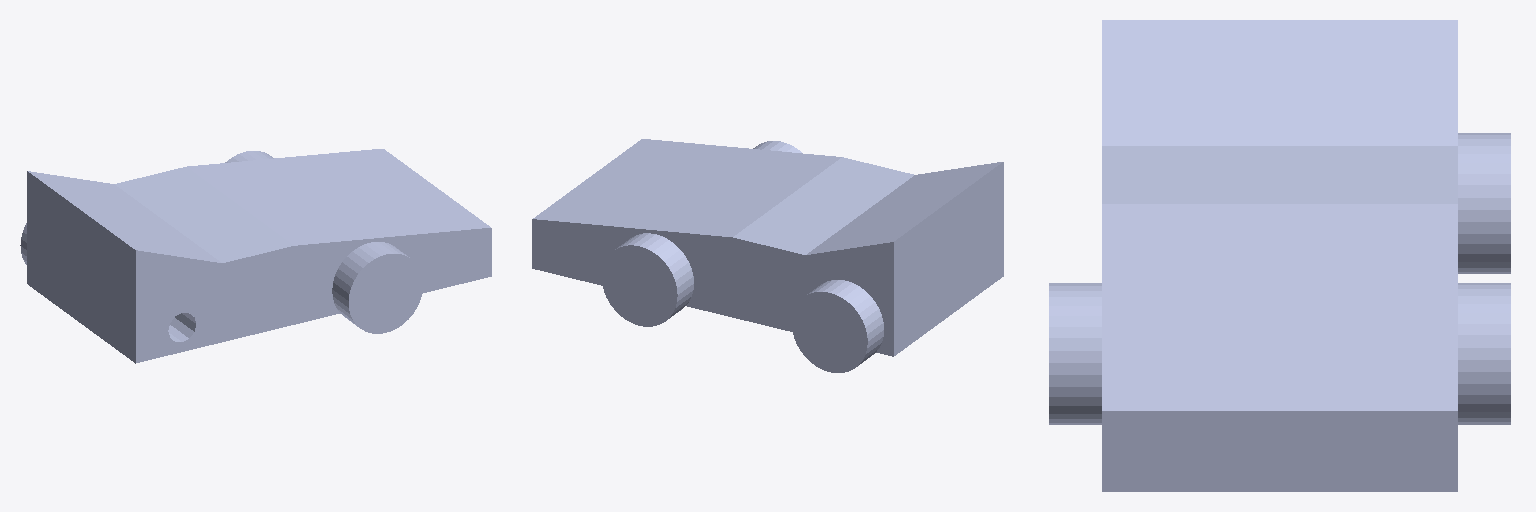
robot.urdf — car_control:
<?xml version="1.0" encoding="utf-8"?>
<!-- This URDF was automatically created by SolidWorks to URDF Exporter! Originally created by [author] ([email redacted]) 
     Commit Version: 1.6.0-1-g15f4949  Build Version: 1.6.7594.29634
     For more information, please see http://wiki.ros.org/sw_urdf_exporter -->
<robot
  name="car_control">
  <link
    name="base_link">
    <inertial>
      <origin
        xyz="0.0953137510067839 0 -0.101443848109706"
        rpy="0 0 0" />
      <mass
        value="90.4863171622024" />
      <inertia
        ixx="2.31734101461935"
        ixy="9.40606923907818E-17"
        ixz="0.534422646160281"
        iyy="7.29012414676684"
        iyz="8.33231985741877E-18"
        izz="8.86465995750526" />
    </inertial>
    <visual>
      <origin
        xyz="0 0 0"
        rpy="0 0 0" />
      <geometry>
        <mesh
          filename="package://car_control/meshes/base_link.STL" />
      </geometry>
      <material
        name="">
        <color
          rgba="0.792156862745098 0.819607843137255 0.933333333333333 1" />
      </material>
    </visual>
    <collision>
      <origin
        xyz="0 0 0"
        rpy="0 0 0" />
      <geometry>
        <mesh
          filename="package://car_control/meshes/base_link.STL" />
      </geometry>
    </collision>
  </link>
  <link
    name="BR_wheel">
    <inertial>
      <origin
        xyz="-1.1102E-16 0.047495 -1.4572E-16"
        rpy="0 0 0" />
      <mass
        value="2.8186" />
      <inertia
        ixx="0.009636"
        ixy="7.9039E-20"
        ixz="7.1367E-20"
        iyy="0.013006"
        iyz="9.4932E-19"
        izz="0.009636" />
    </inertial>
    <visual>
      <origin
        xyz="0 0 0"
        rpy="0 0 0" />
      <geometry>
        <mesh
          filename="package://car_control/meshes/BR_wheel.STL" />
      </geometry>
      <material
        name="">
        <color
          rgba="0.79216 0.81961 0.93333 1" />
      </material>
    </visual>
    <collision>
      <origin
        xyz="0 0 0"
        rpy="0 0 0" />
      <geometry>
        <mesh
          filename="package://car_control/meshes/BR_wheel.STL" />
      </geometry>
    </collision>
  </link>
  <joint
    name="BR_joint"
    type="revolute">
    <origin
      xyz="-0.20624 -0.3302 -0.14111"
      rpy="0 0 0" />
    <parent
      link="base_link" />
    <child
      link="BR_wheel" />
    <axis
      xyz="0 1 0" />
    <limit
      lower="-1000000"
      upper="1000000"
      effort="100"
      velocity="1000" />
  </joint>
  <link
    name="BL_wheel">
    <inertial>
      <origin
        xyz="-1.1102E-16 -0.047495 6.9389E-18"
        rpy="0 0 0" />
      <mass
        value="2.8186" />
      <inertia
        ixx="0.009636"
        ixy="2.8579E-19"
        ixz="-2.5413E-35"
        iyy="0.013006"
        iyz="-2.2429E-35"
        izz="0.009636" />
    </inertial>
    <visual>
      <origin
        xyz="0 0 0"
        rpy="0 0 0" />
      <geometry>
        <mesh
          filename="package://car_control/meshes/BL_wheel.STL" />
      </geometry>
      <material
        name="">
        <color
          rgba="0.79216 0.81961 0.93333 1" />
      </material>
    </visual>
    <collision>
      <origin
        xyz="0 0 0"
        rpy="0 0 0" />
      <geometry>
        <mesh
          filename="package://car_control/meshes/BL_wheel.STL" />
      </geometry>
    </collision>
  </link>
  <joint
    name="BL_joint"
    type="revolute">
    <origin
      xyz="-0.20624 0.3302 -0.14111"
      rpy="0 0 0" />
    <parent
      link="base_link" />
    <child
      link="BL_wheel" />
    <axis
      xyz="0 1 0" />
    <limit
      lower="-1000000"
      upper="1000000"
      effort="100"
      velocity="1000" />
  </joint>
  <link
    name="FL_wheel">
    <inertial>
      <origin
        xyz="0 -0.047495 6.9389E-18"
        rpy="0 0 0" />
      <mass
        value="2.8186" />
      <inertia
        ixx="0.009636"
        ixy="2.8579E-19"
        ixz="-2.5413E-35"
        iyy="0.013006"
        iyz="-2.2429E-35"
        izz="0.009636" />
    </inertial>
    <visual>
      <origin
        xyz="0 0 0"
        rpy="0 0 0" />
      <geometry>
        <mesh
          filename="package://car_control/meshes/FL_wheel.STL" />
      </geometry>
      <material
        name="">
        <color
          rgba="0.79216 0.81961 0.93333 1" />
      </material>
    </visual>
    <collision>
      <origin
        xyz="0 0 0"
        rpy="0 0 0" />
      <geometry>
        <mesh
          filename="package://car_control/meshes/FL_wheel.STL" />
      </geometry>
    </collision>
  </link>
  <joint
    name="FL_joint"
    type="revolute">
    <origin
      xyz="0.30176 0.3302 -0.14111"
      rpy="0 0 0" />
    <parent
      link="base_link" />
    <child
      link="FL_wheel" />
    <axis
      xyz="0 1 0" />
    <limit
      lower="-1000000"
      upper="1000000"
      effort="100"
      velocity="1000" />
  </joint>
  <link
    name="FR_wheel">
    <inertial>
      <origin
        xyz="0 0.047495 6.9389E-18"
        rpy="0 0 0" />
      <mass
        value="2.8186" />
      <inertia
        ixx="0.009636"
        ixy="2.8528E-19"
        ixz="-2.8528E-19"
        iyy="0.013006"
        iyz="-2.6197E-19"
        izz="0.009636" />
    </inertial>
    <visual>
      <origin
        xyz="0 0 0"
        rpy="0 0 0" />
      <geometry>
        <mesh
          filename="package://car_control/meshes/FR_wheel.STL" />
      </geometry>
      <material
        name="">
        <color
          rgba="0.79216 0.81961 0.93333 1" />
      </material>
    </visual>
    <collision>
      <origin
        xyz="0 0 0"
        rpy="0 0 0" />
      <geometry>
        <mesh
          filename="package://car_control/meshes/FR_wheel.STL" />
      </geometry>
    </collision>
  </link>
  <joint
    name="FR_joint"
    type="revolute">
    <origin
      xyz="0.30176 -0.3302 -0.14111"
      rpy="0 0 0" />
    <parent
      link="base_link" />
    <child
      link="FR_wheel" />
    <axis
      xyz="0 1 0" />
    <limit
      lower="-1000000"
      upper="1000000"
      effort="100"
      velocity="1000" />
  </joint>

  <gazebo reference="base_link">
    <material>Gazebo/Red</material>
  </gazebo>
  <link name="dummy_link">
  </link>
  <joint name="dummy_joint" type="fixed">
    <parent link="dummy_link"/>
    <child link="base_link"/>
  </joint>

  <transmission name="right_front_transmission">
    <type>transmission_interface/SimpleTransmission</type>
    <joint name="FR_joint">
      <hardwareInterface>hardware_interface/EffortJointInterface</hardwareInterface>
    </joint>
    <actuator name="FR_motor">
      <mechanicalReduction>1</mechanicalReduction>
      <hardwareInterface>hardware_interface/EffortJointInterface</hardwareInterface>
    </actuator>
  </transmission>

  <transmission name="front_left_transmission">
    <type>transmission_interface/SimpleTransmission</type>
    <joint name="FL_joint">
      <hardwareInterface>hardware_interface/EffortJointInterface</hardwareInterface>
    </joint>
    <actuator name="FL_motor">
      <mechanicalReduction>1</mechanicalReduction>
      <hardwareInterface>hardware_interface/EffortJointInterface</hardwareInterface>
    </actuator>
  </transmission>

  <transmission name="back_left_transmission">
    <type>transmission_interface/SimpleTransmission</type>
    <joint name="BL_joint">
      <hardwareInterface>hardware_interface/EffortJointInterface</hardwareInterface>
    </joint>
    <actuator name="BL_motor">
      <mechanicalReduction>1</mechanicalReduction>
      <hardwareInterface>hardware_interface/EffortJointInterface</hardwareInterface>
    </actuator>
  </transmission>

  <transmission name="back_right_transmission">
    <type>transmission_interface/SimpleTransmission</type>
    <joint name="BR_joint">
      <hardwareInterface>hardware_interface/EffortJointInterface</hardwareInterface>
    </joint>
    <actuator name="BR_motor">
      <mechanicalReduction>1</mechanicalReduction>
      <hardwareInterface>hardware_interface/EffortJointInterface</hardwareInterface>
    </actuator>
  </transmission>

</robot>

--- Render facts (derived) ---
Views: 3 orthographic renders of the robot side by side, from view 1: azimuth 30°, elevation 25°; view 2: azimuth 150°, elevation 25°; view 3: azimuth 270°, elevation 25°.
Robot: car_control — 6 links, 5 joints (4 revolute, 1 fixed); root link dummy_link; default pose: all joints at 0.
Visible links, largest first — view 1: base_link, FR_wheel; view 2: base_link, FL_wheel, BL_wheel; view 3: base_link, FL_wheel, FR_wheel, BL_wheel.
Link boxes in pixels (left/top/right/bottom): base_link: left=27, top=149, right=491, bottom=363; FR_wheel: left=332, top=242, right=422, bottom=333; base_link: left=532, top=139, right=1003, bottom=356; FL_wheel: left=602, top=233, right=693, bottom=326; BL_wheel: left=792, top=280, right=883, bottom=372; base_link: left=1102, top=20, right=1457, bottom=491; FL_wheel: left=1458, top=283, right=1510, bottom=424; FR_wheel: left=1049, top=283, right=1101, bottom=424; BL_wheel: left=1458, top=133, right=1510, bottom=273.
Bounding box of the posed robot: 0.9652 × 0.6604 × 0.3317 m (x, y, z).
4 mesh visuals loaded from 5 distinct referenced files (4 binary STL); not drawn: 1 (reference not matched to a file when rendering).